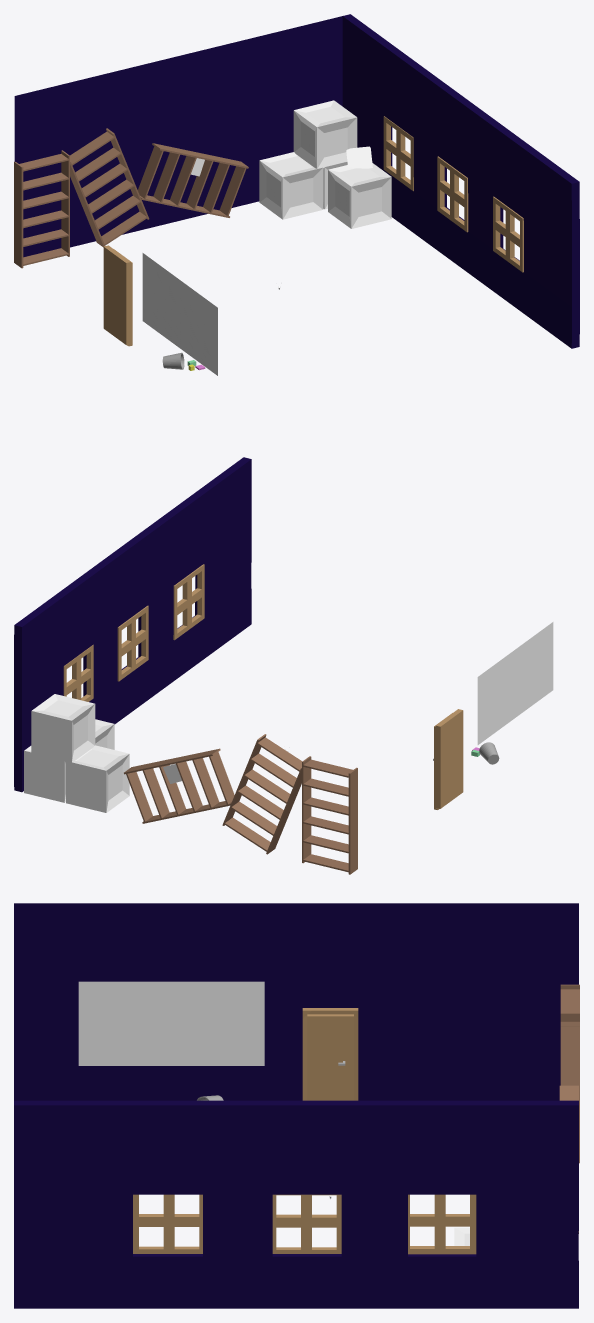
The model's file is room.glb.
3 renders of one model, top to bottom at view 1: azimuth 30°, elevation 25°; view 2: azimuth 150°, elevation 25°; view 3: azimuth 270°, elevation 25°, orthographic. The views are drawn at different scales.
Visible parts, largest first — view 1: Cube-col, Plane.004, Shelves1-col, Shelves1.001-col, Shelves1.002-col, Cube.005-col, Cube.003-col, Cube.004-col, Door-col, Window.001-col, Window.002-col, Window-col (+1 smaller); view 2: Cube-col, Plane.004, Shelves1.001-col, Shelves1-col, Shelves1.002-col, Cube.003-col, Cube.005-col, Door-col, Cube.002-col, Window.002-col, Window.001-col, Window-col (+1 smaller); view 3: Cube-col, Plane.004, Door-col, Window.001-col, Window-col, Window.002-col, Shelves1.001-col, Shelves1.002-col.
Part boxes in pixels (x1,y1,x2,y2): Cube-col: (14,14,579,348); Plane.004: (142,253,217,375); Shelves1-col: (137,143,248,217); Shelves1.001-col: (70,128,149,247); Shelves1.002-col: (14,150,69,268); Cube.005-col: (259,152,323,219); Cube.003-col: (293,100,357,168); Cube.004-col: (328,163,391,228); Door-col: (103,245,132,346); Window.001-col: (437,156,468,232); Window.002-col: (493,196,523,272); Window-col: (383,116,413,191); Cube-col: (14,457,251,792); Plane.004: (477,622,553,744); Shelves1.001-col: (222,734,301,854); Shelves1-col: (124,748,234,823); Shelves1.002-col: (302,756,357,874); Cube.003-col: (31,694,95,762); Cube.005-col: (66,745,129,812); Door-col: (433,709,463,809); Cube.002-col: (24,746,65,802); Window.002-col: (173,564,204,640); Window.001-col: (117,605,148,681); Window-col: (63,644,93,701); Cube-col: (14,903,578,1308); Plane.004: (78,981,264,1065); Door-col: (302,1008,358,1100); Window.001-col: (272,1194,341,1253); Window-col: (408,1194,476,1254); Window.002-col: (133,1194,202,1253); Shelves1.001-col: (560,1021,579,1163); Shelves1.002-col: (560,984,579,1021).
Size of the model in its own units: 10.3 by 4.99 by 12.17.
